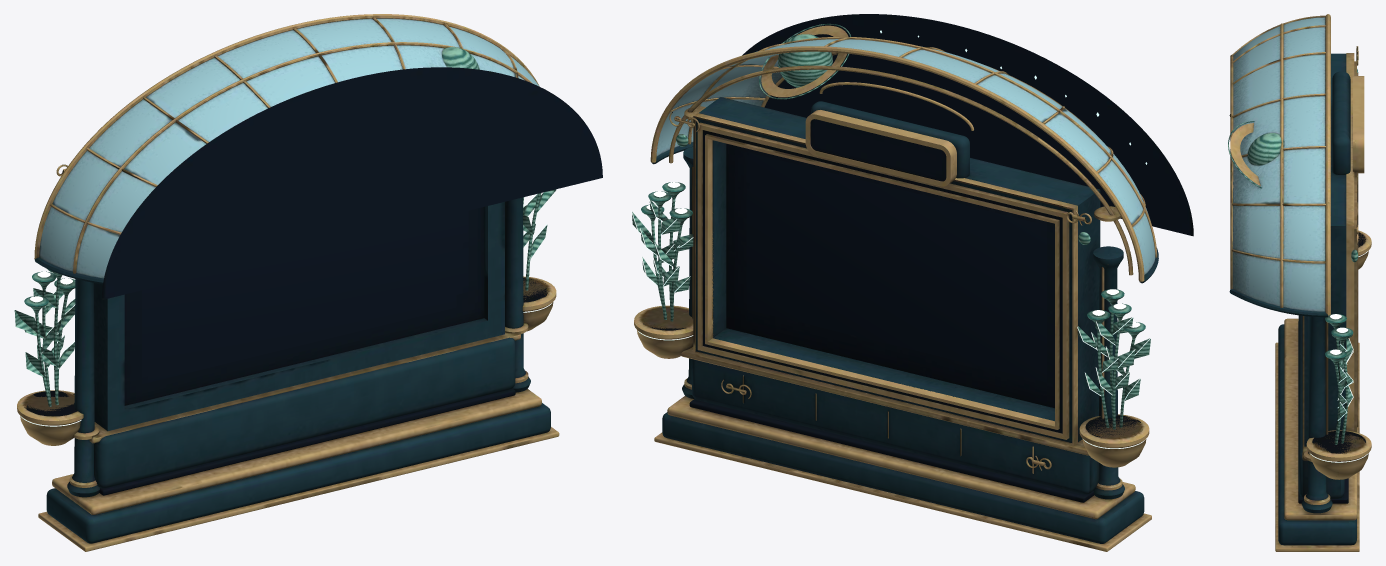
The picture shows the model from 3 angles, left to right: view 1: azimuth 30°, elevation 25°; view 2: azimuth 150°, elevation 25°; view 3: azimuth 270°, elevation 25°; orthographic projection. The views are drawn at different scales.
Parts seen in each view (by area): view 1: Even_midnight_inset, Orbital_petrol_enamel, Blue_greenhouse_glazing, Champagne_structural_brass, Jade_botanical_atmosphere; view 2: Even_midnight_inset, Champagne_structural_brass, Orbital_petrol_enamel, Blue_greenhouse_glazing, Jade_botanical_atmosphere, Mint_botanical_glow; view 3: Blue_greenhouse_glazing, Champagne_structural_brass, Orbital_petrol_enamel, Jade_botanical_atmosphere, Even_midnight_inset, Mint_botanical_glow.
Boxes of the visible parts, box(x1,y1,x2,y2) form: Even_midnight_inset: box(24, 67, 602, 495); Orbital_petrol_enamel: box(34, 197, 550, 543); Blue_greenhouse_glazing: box(39, 18, 539, 278); Champagne_structural_brass: box(17, 14, 559, 551); Jade_botanical_atmosphere: box(14, 47, 556, 406); Even_midnight_inset: box(643, 14, 1193, 502); Champagne_structural_brass: box(634, 25, 1157, 551); Orbital_petrol_enamel: box(651, 97, 1158, 543); Blue_greenhouse_glazing: box(656, 39, 1155, 274); Jade_botanical_atmosphere: box(632, 23, 1150, 429); Mint_botanical_glow: box(631, 30, 1150, 448); Blue_greenhouse_glazing: box(1232, 17, 1325, 311); Champagne_structural_brass: box(1230, 14, 1371, 551); Orbital_petrol_enamel: box(1229, 53, 1356, 545); Jade_botanical_atmosphere: box(1228, 69, 1358, 444); Even_midnight_inset: box(1298, 232, 1365, 503); Mint_botanical_glow: box(1310, 251, 1368, 462).
Size of the model in its own units: 12.2 by 9.6 by 3.26.
Materials: 6 (5 with a texture image).
